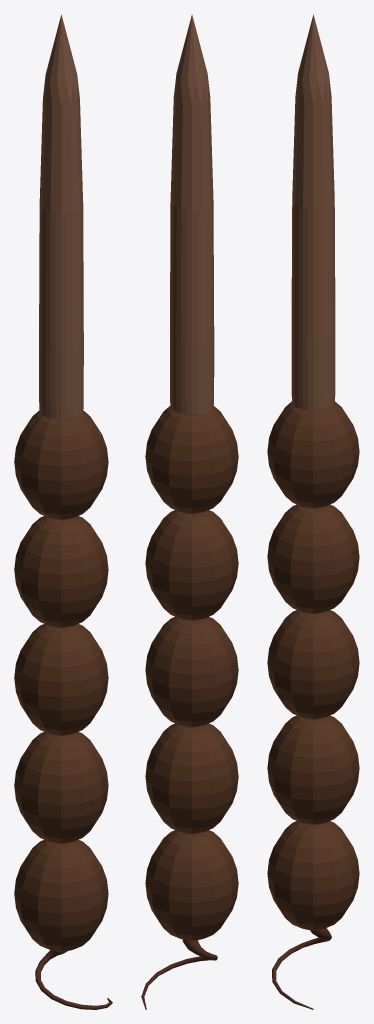
The model's file is Wand 209.glb.
3 views of the same model, side by side, from view 1: azimuth 30°, elevation 25°; view 2: azimuth 210°, elevation 25°; view 3: azimuth 270°, elevation 25° (orthographic). The views are drawn at different scales.
Parts seen in each view (by area): view 1: GeneratedWand; view 2: GeneratedWand; view 3: GeneratedWand.
Part boxes in pixels (x1,y1,x2,y2): GeneratedWand: (14,14,112,1009); GeneratedWand: (141,14,238,1009); GeneratedWand: (267,14,359,1009).
Bounding box in the file's own units: 0.0481 × 0.5235 × 0.0449.
